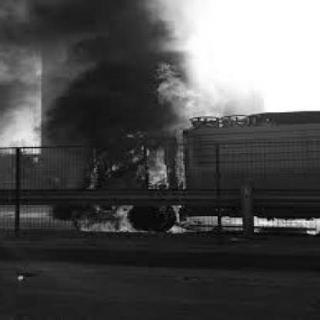Fire: (72, 63, 232, 235)
